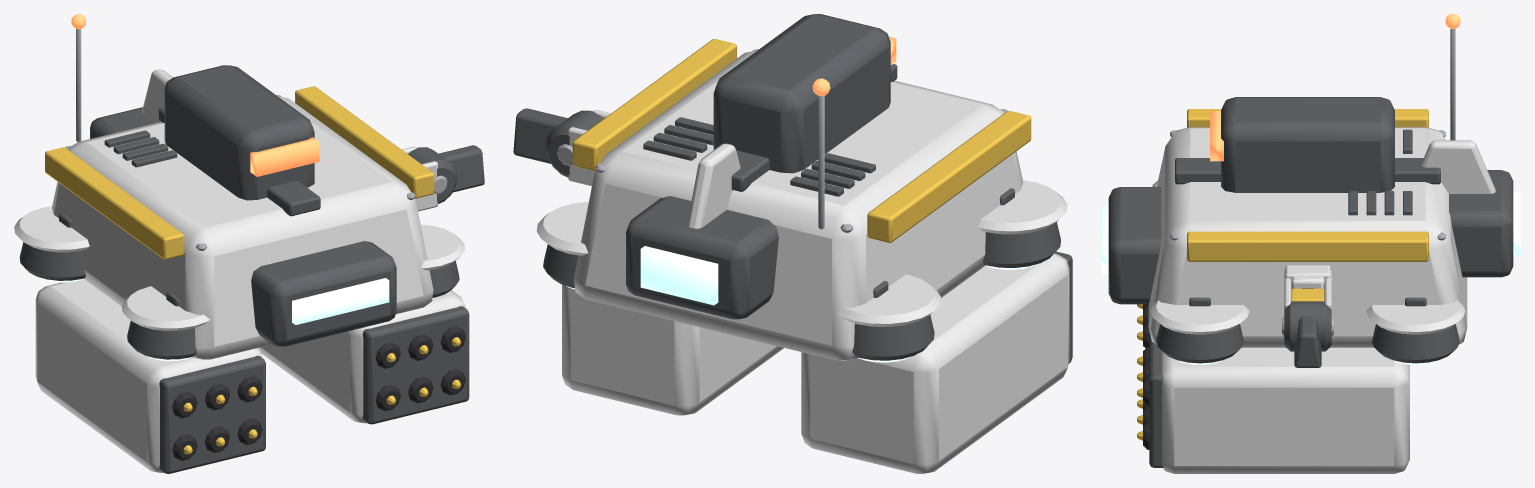
File: missile.glb
The picture shows the model from 3 angles, left to right: view 1: azimuth 30°, elevation 25°; view 2: azimuth 150°, elevation 25°; view 3: azimuth 270°, elevation 25°; orthographic projection. The views are drawn at different scales.
Parts seen in each view (by area): view 1: Hull, Barrel, Turret, LegUpper, LegLower; view 2: Hull, Barrel, Turret, LegUpper, LegLower; view 3: Hull, Barrel, Turret, LegUpper, LegLower.
Boxes of the visible parts, x1,y1,x2,y2 form: Hull: (14,14,464,361); Barrel: (35,279,469,473); Turret: (164,65,319,200); LegUpper: (402,146,457,211); LegLower: (438,145,484,192); Hull: (536,39,1067,362); Barrel: (562,251,1072,473); Turret: (713,14,896,173); LegUpper: (545,110,610,186); LegLower: (513,108,567,163); Hull: (1101,14,1520,364); Barrel: (1137,304,1409,473); Turret: (1210,97,1394,192); LegUpper: (1282,265,1333,351); LegLower: (1291,276,1324,367).
Size of the model in its own units: 0.7772 by 0.6285 by 0.694.
